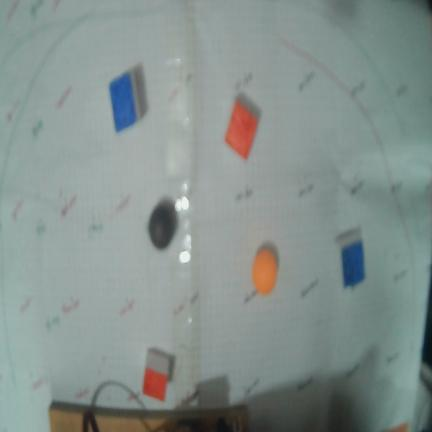circle_blue: (148, 199, 177, 249)
circle_orange: (252, 249, 277, 295)
rectangle_blue: (110, 71, 137, 134)
rectangle_orange: (143, 367, 168, 401)
square_blue: (341, 241, 364, 287)
square_orange: (225, 99, 258, 159)
